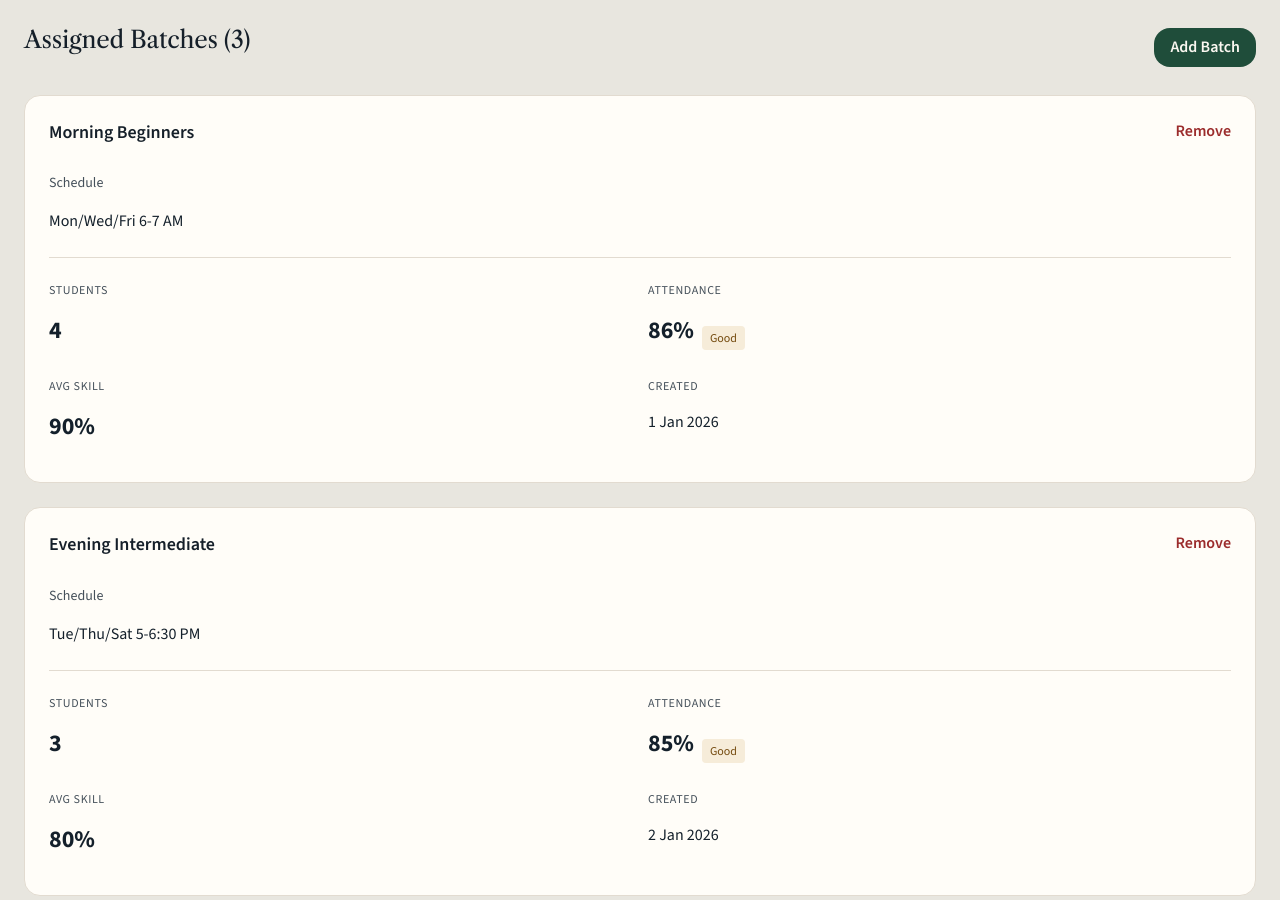
it: CoachBatchesTab › Requirement 6.4-6.6: Batch unassignment functionality (HEAD_COACH only) › displays confirmation dialog when Remove button is clicked
The width and height of the screenshot is (1280, 900).
Click the 1st button "Remove": (1203, 132) [1176, 120, 1231, 143]
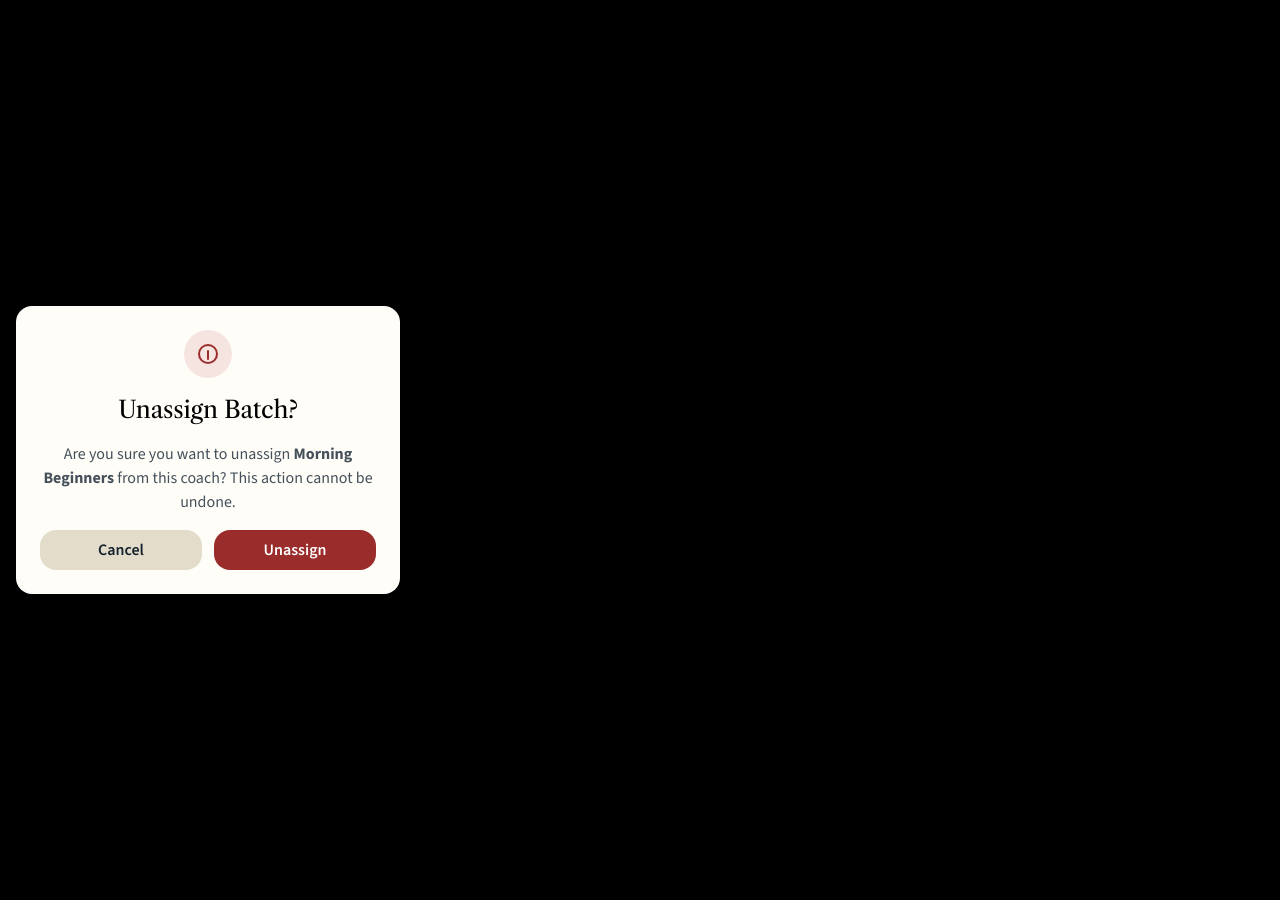
Expected: the heading "Unassign Batch?" is shown, [118, 395, 298, 424]
Expected: the text "Are you sure you want to unassign" is shown, [64, 443, 294, 464]
